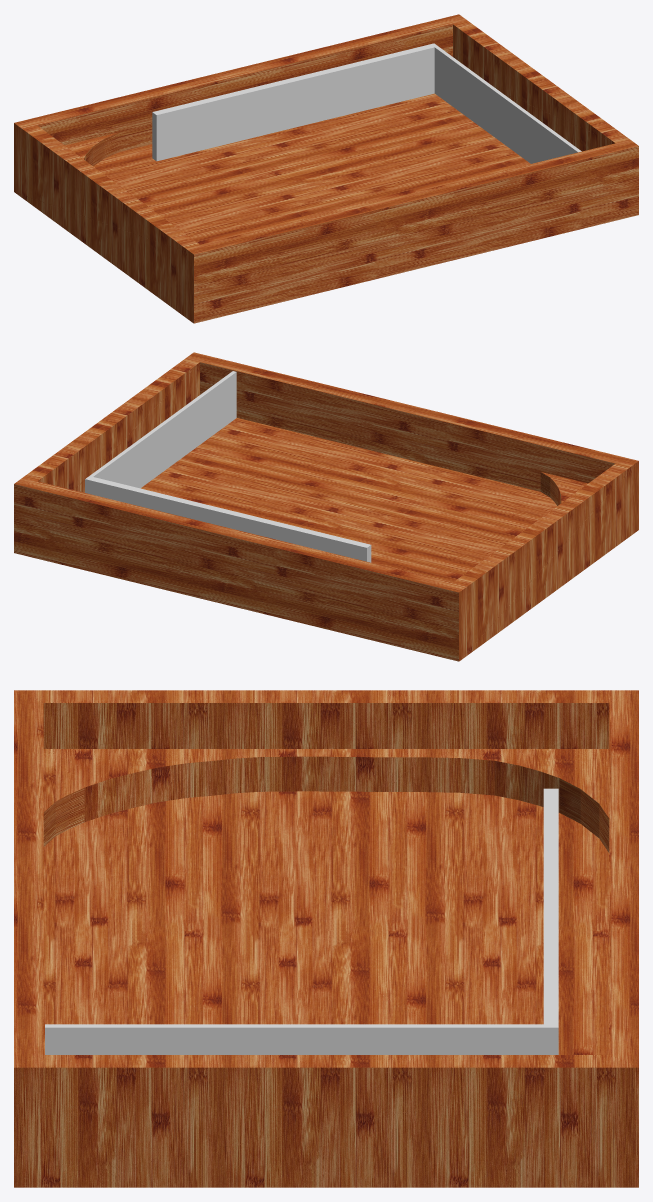
Rendered from table.FBX.
3 renders of one model, top to bottom at view 1: azimuth 30°, elevation 25°; view 2: azimuth 150°, elevation 25°; view 3: azimuth 270°, elevation 25°, orthographic. The views are drawn at different scales.
Parts seen in each view (by area): view 1: main, middle_block, down_block; view 2: main, down_block, middle_block; view 3: main, down_block, middle_block.
Part boxes in pixels (left/top/right/bottom): main: left=14, top=14, right=638, bottom=323; middle_block: left=152, top=43, right=437, bottom=161; down_block: left=434, top=46, right=581, bottom=163; main: left=14, top=352, right=638, bottom=661; down_block: left=90, top=371, right=236, bottom=488; middle_block: left=85, top=476, right=371, bottom=562; main: left=14, top=690, right=638, bottom=1187; down_block: left=45, top=1024, right=544, bottom=1054; middle_block: left=543, top=788, right=558, bottom=1054.
Size of the model in its own units: 60 by 8.9 by 42.
